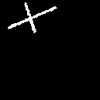single_crochet: (8, 3, 55, 32)
